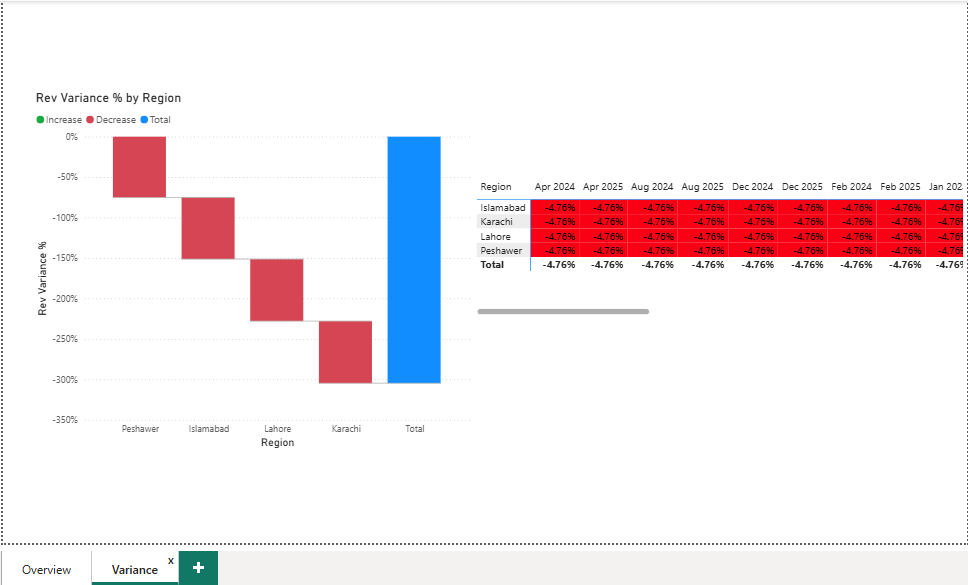

Layout of this report page (visuals, bound fields, positions):
{"tool":"powerbi","page":{"name":"Variance","canvas":[1280,720],"ordinal":1},"visuals":[{"type":"waterfallChart","fields":{"Category":["Actuals.Region"],"Y":["_Measures.Rev Variance %"]},"box":[38,118.5,586.8,481.5],"z":0},{"type":"pivotTable","fields":{"Rows":["Dim_Region.Region"],"Columns":["Dim_Date.Month"],"Values":["_Measures.Rev Variance %"]},"box":[624.3,231.4,655.7,191.4],"z":1000}]}

Visuals, with their boxes on the page's 1280x720 design canvas (x1, y1, x2, y2). These are canvas units, not pixel positions in the 968x585 screenshot, which may show the page scaled, cropped or inside an application window:
waterfallChart - Actuals.Region x _Measures.Rev Variance %: 38/118/625/600
pivotTable - Dim_Region.Region x Dim_Date.Month: 624/231/1280/423
